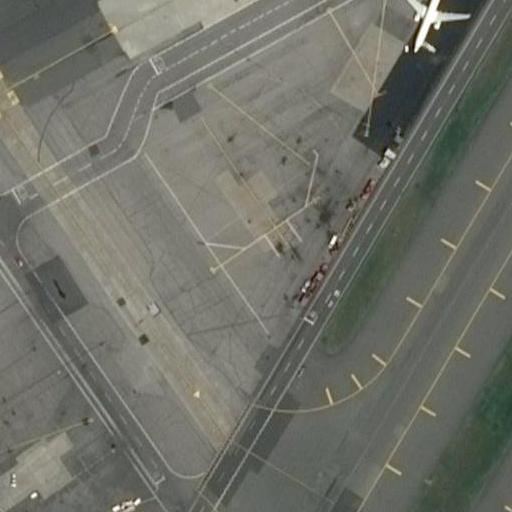Aircraft: (385, 0, 472, 52)
